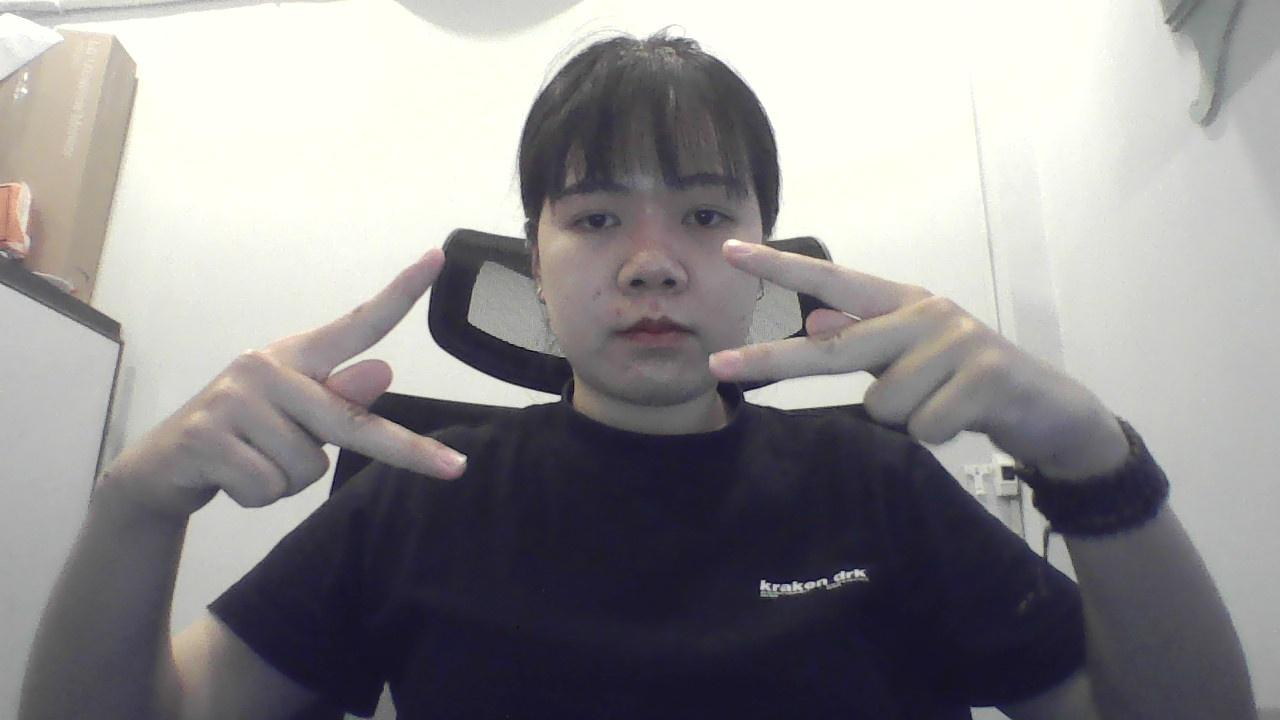P: (142, 241, 482, 520), (702, 221, 1069, 458)
